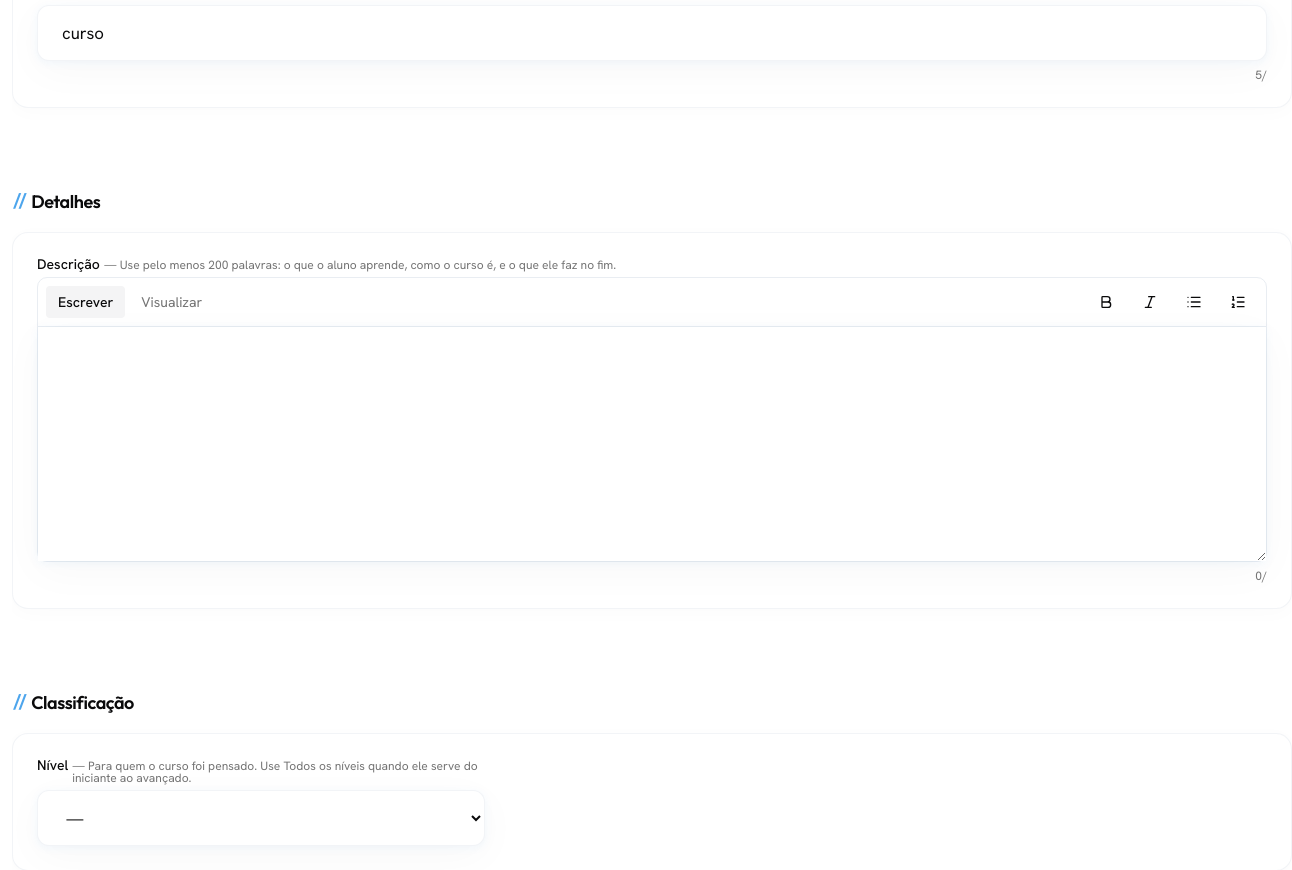
Test case: aba Visualizar › HTML digitado aparece como texto, e nada vira elemento
(page scrolled)
Step 1. Type "<script>alert(1)</script>" into the text box labelled "Descrição" → point(652, 444), box x1=38 y1=327 x2=1266 y2=560
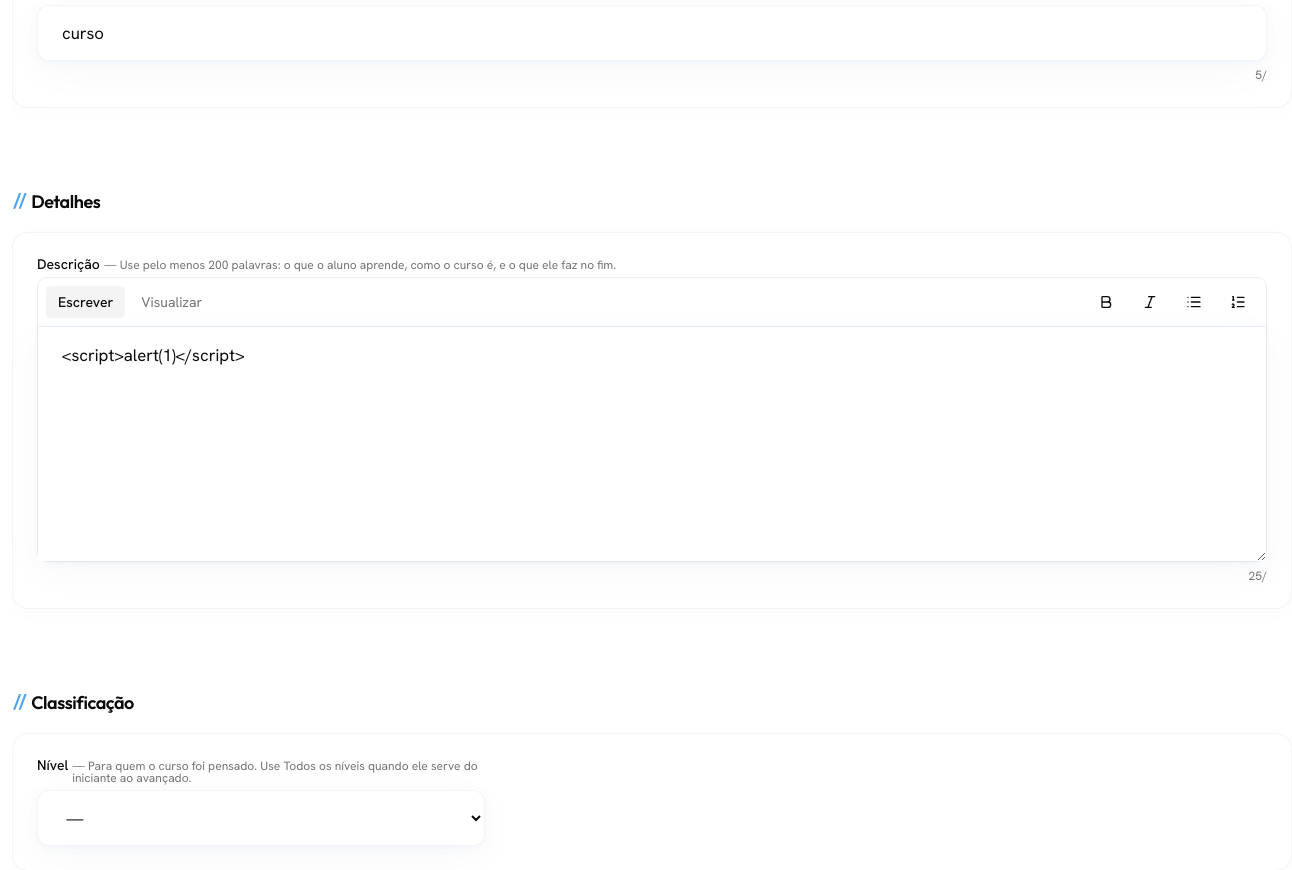
Step 2. Click the tab "Visualizar" → point(172, 302), box x1=129 y1=286 x2=214 y2=318
(page scrolled)
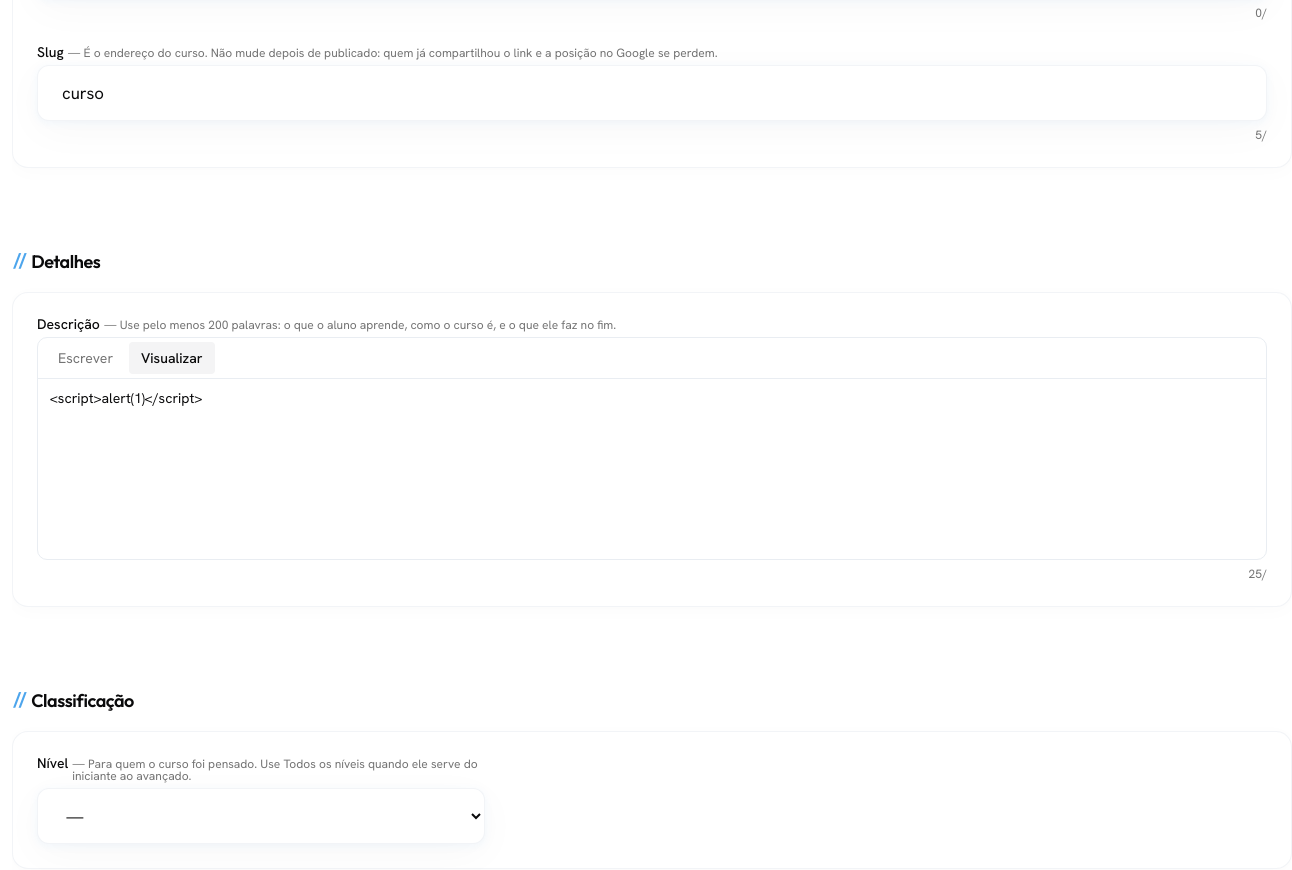
Expected: the text "<script>alert(1)</script>" is shown, x1=50 y1=389 x2=202 y2=407
